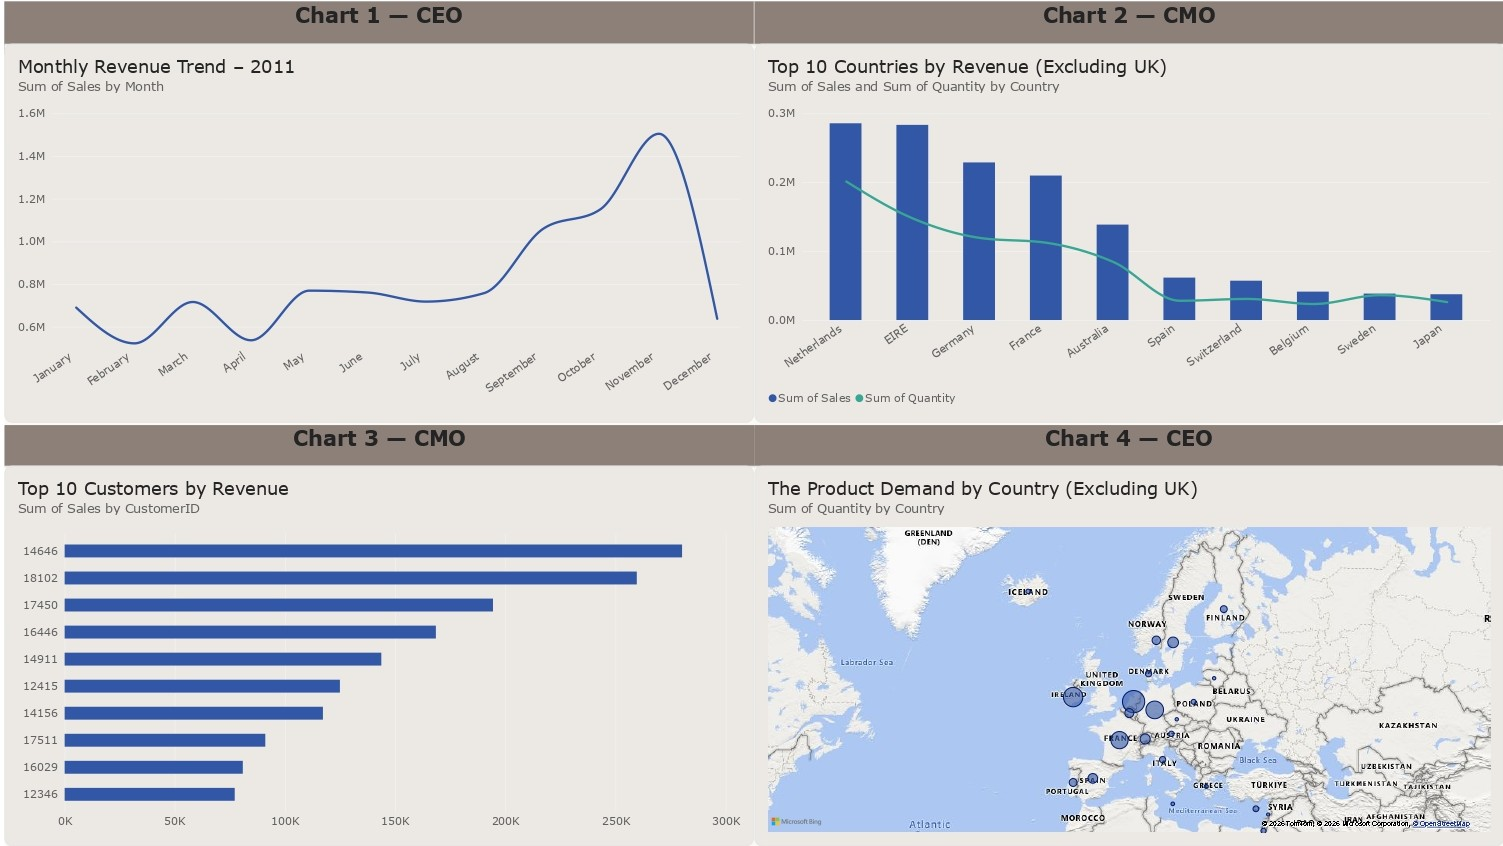

What the dashboard file says about the page in this screenshot:
{"tool":"powerbi","page":{"name":"Page 1","canvas":[1920,1080],"ordinal":0},"visuals":[{"type":"textbox","box":[0,0,959.1,54.3],"z":0},{"type":"lineChart","title":"Monthly Revenue Trend – 2011","fields":{"Category":["Online Retail.InvoiceDate.Variation.Date Hierarchy.Month"],"Y":["Sum(Online Retail.Sales)"]},"box":[0,54.3,959.1,485],"z":1000},{"type":"textbox","box":[959.1,0,959.1,54.3],"z":2000},{"type":"lineClusteredColumnComboChart","title":" Top 10 Countries by Revenue (Excluding UK)","fields":{"Category":["Online Retail.Country"],"Y":["Sum(Online Retail.Sales)"],"Y2":["Sum(Online Retail.Quantity)"]},"box":[959.1,54.3,959.1,485],"z":3000},{"type":"textbox","box":[959.1,541.1,959.1,52.5],"z":4000},{"type":"textbox","box":[0,539.3,959.1,54.3],"z":5000},{"type":"clusteredBarChart","title":"Top 10 Customers by Revenue","fields":{"Category":["Online Retail.CustomerID"],"Y":["Sum(Online Retail.Sales)"]},"box":[0,593.6,959.1,486.8],"z":5001},{"type":"map","title":"The Product Demand by Country (Excluding UK)","fields":{"Category":["Online Retail.Country"],"Size":["Sum(Online Retail.Quantity)"]},"box":[959.1,593.6,959.1,486.8],"z":5002}]}

Visuals, with their boxes in screenshot pixels (x1, y1, x2, y2), scaled from the page's 1920x1080 canvas onto the 1503x846 screenshot:
textbox: [left=0, top=0, right=751, bottom=43]
"Monthly Revenue Trend – 2011" lineChart: [left=0, top=43, right=751, bottom=422]
textbox: [left=751, top=0, right=1502, bottom=43]
" Top 10 Countries by Revenue (Excluding UK)" lineClusteredColumnComboChart: [left=751, top=43, right=1502, bottom=422]
textbox: [left=751, top=424, right=1502, bottom=465]
textbox: [left=0, top=422, right=751, bottom=465]
"Top 10 Customers by Revenue" clusteredBarChart: [left=0, top=465, right=751, bottom=845]
"The Product Demand by Country (Excluding UK)" map: [left=751, top=465, right=1502, bottom=845]
